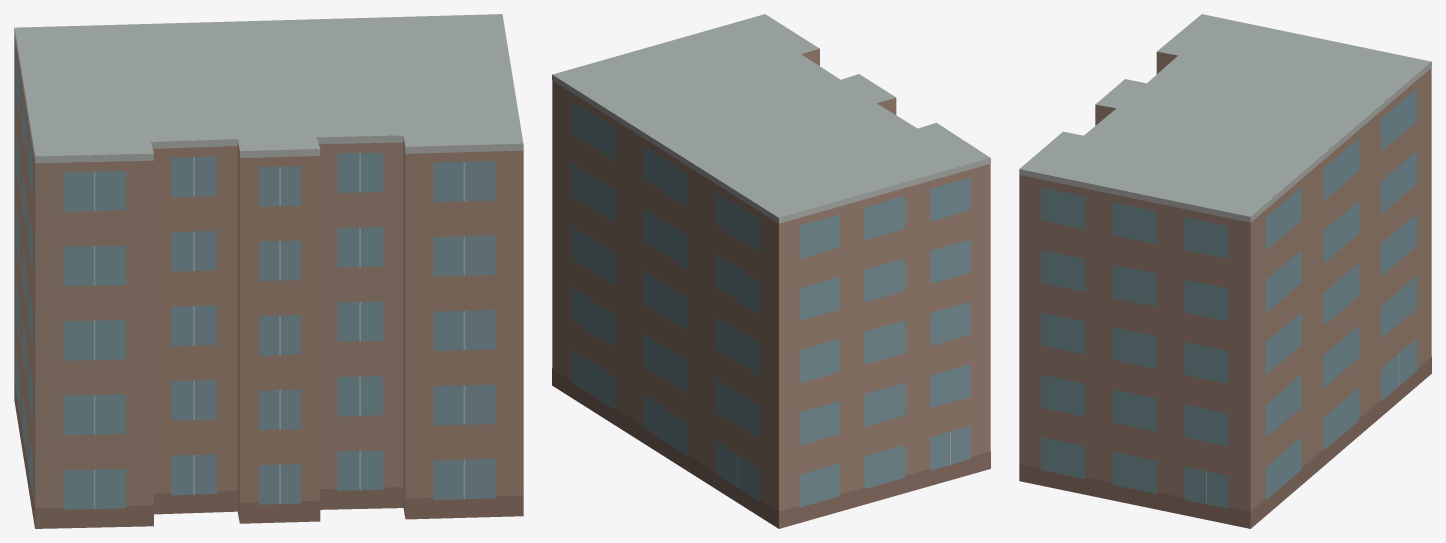
The model's file is survey-upis-32891614.glb.
3 renders of one model, left to right at view 1: azimuth 30°, elevation 25°; view 2: azimuth 150°, elevation 25°; view 3: azimuth 270°, elevation 25°, orthographic. The views are drawn at different scales.
Parts seen in each view (by area): view 1: survey-upis-32891614.tmp; view 2: survey-upis-32891614.tmp; view 3: survey-upis-32891614.tmp.
Boxes of the visible parts, box(x1,y1,x2,y2) form: survey-upis-32891614.tmp: box(14, 14, 523, 528); survey-upis-32891614.tmp: box(552, 14, 990, 528); survey-upis-32891614.tmp: box(1019, 14, 1431, 528).
Bounding box in the file's own units: 18.28 × 13.1 × 15.71.
